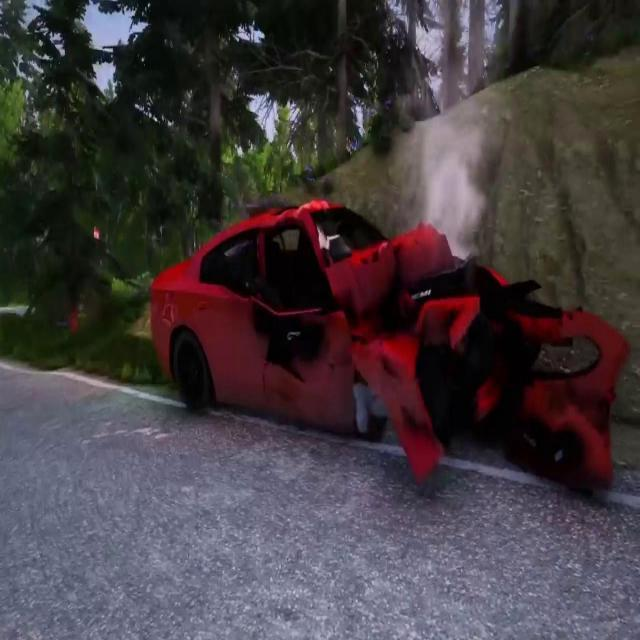severe: (145, 197, 633, 500)
